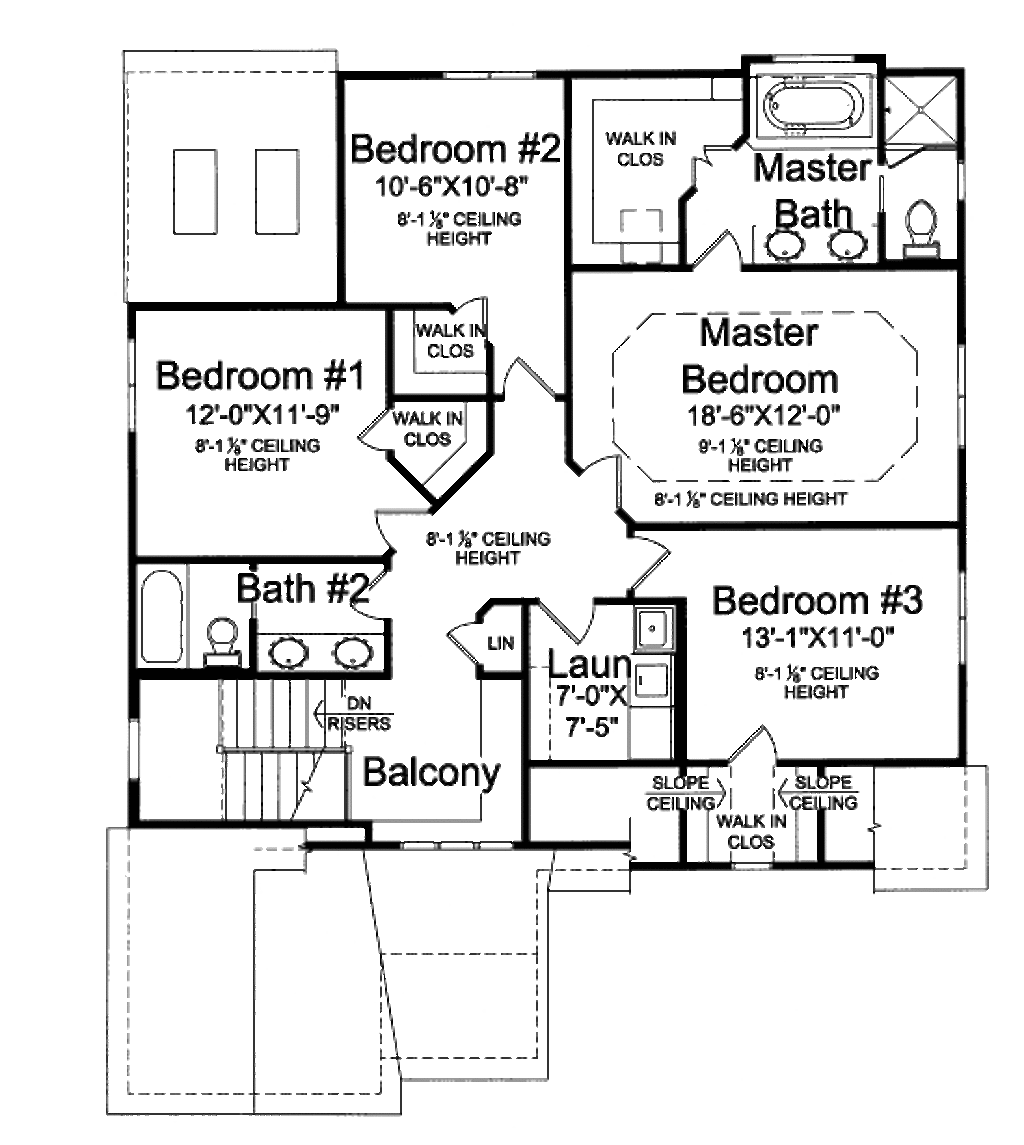door: (680, 122, 754, 202), (671, 223, 757, 286), (573, 443, 643, 513), (434, 277, 509, 341), (341, 563, 409, 630), (620, 523, 677, 602), (443, 605, 505, 672), (498, 352, 566, 411), (361, 498, 432, 554), (345, 389, 405, 454), (714, 709, 782, 761), (536, 589, 598, 643)
large_sink: (189, 613, 257, 677), (891, 193, 946, 259)
small_sink: (757, 216, 878, 270)
stairs: (130, 670, 386, 827)
tub: (736, 52, 891, 139), (129, 563, 193, 672)
window: (111, 332, 168, 448), (934, 325, 984, 457), (434, 57, 552, 95), (945, 572, 973, 670)
